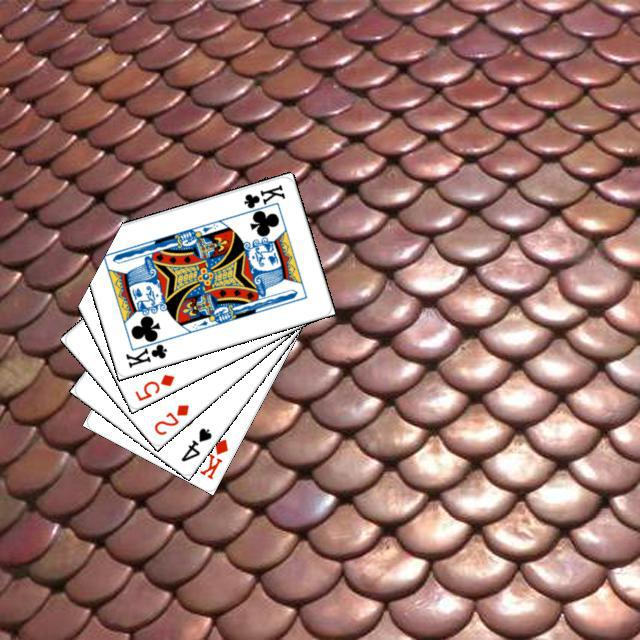2d: (149, 399, 191, 437)
4s: (176, 423, 214, 463)
5d: (130, 369, 176, 403)
Kc: (237, 179, 287, 217), (120, 333, 170, 370)
Kd: (194, 434, 230, 481)
